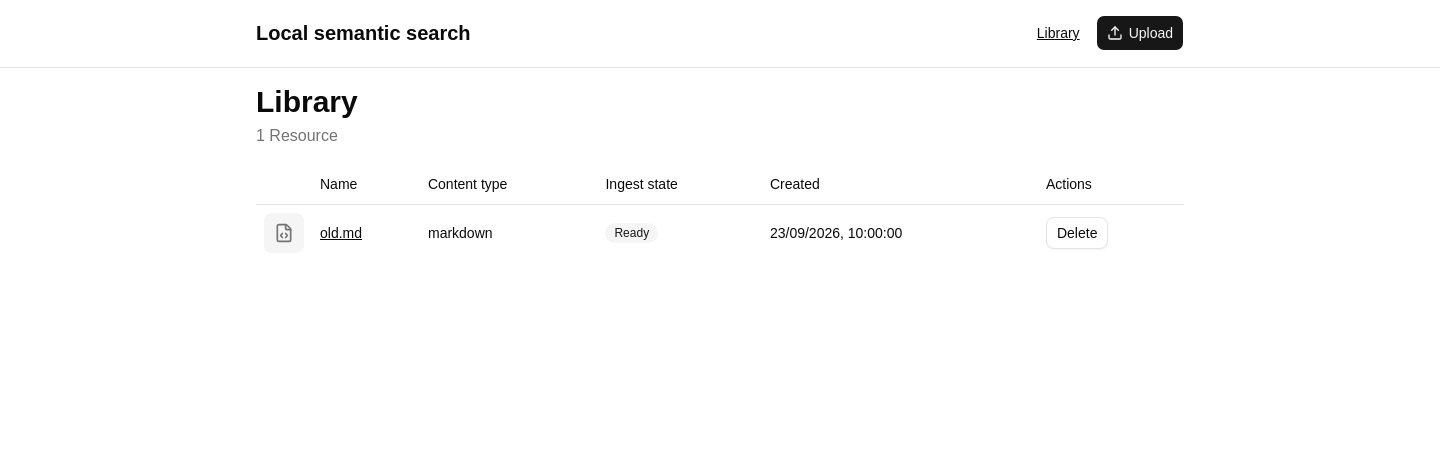
Test: App › the navigation › should go back to the Search from the app name
The image size is (1440, 451).
Click the link "Local semantic search": (363, 33) [256,19,471,47]
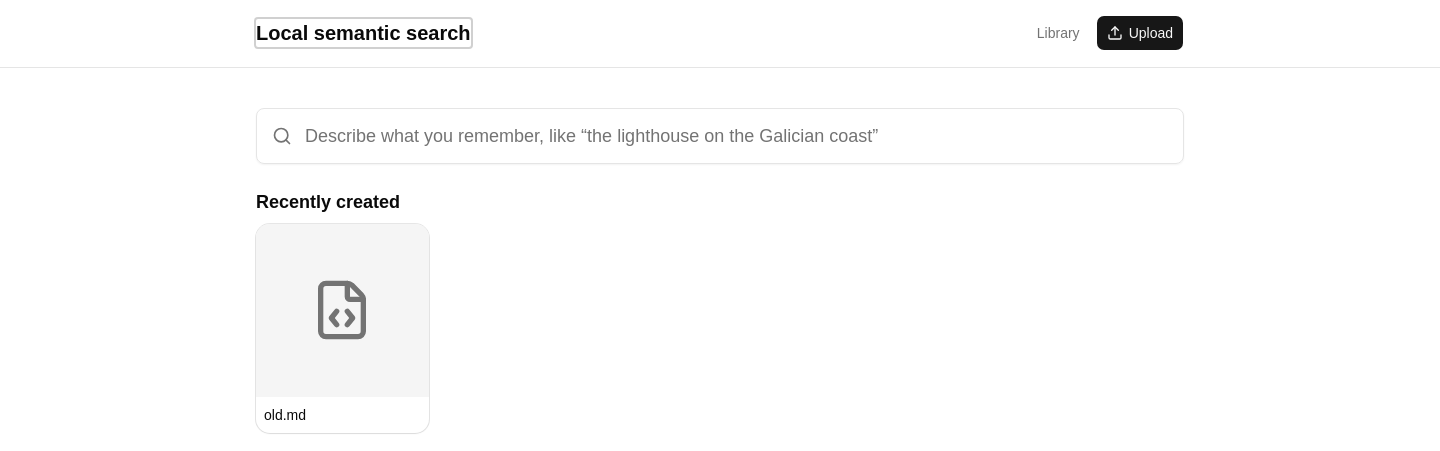
Now the search field named "Search" is shown, box [256,108,1184,164]
